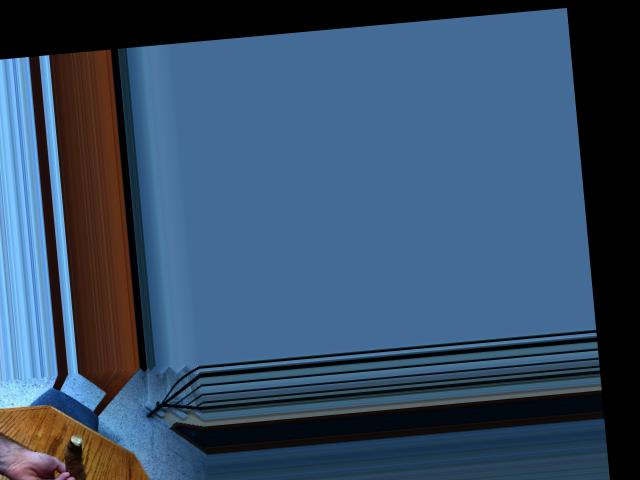sweet_potato: (64, 433, 85, 480)
